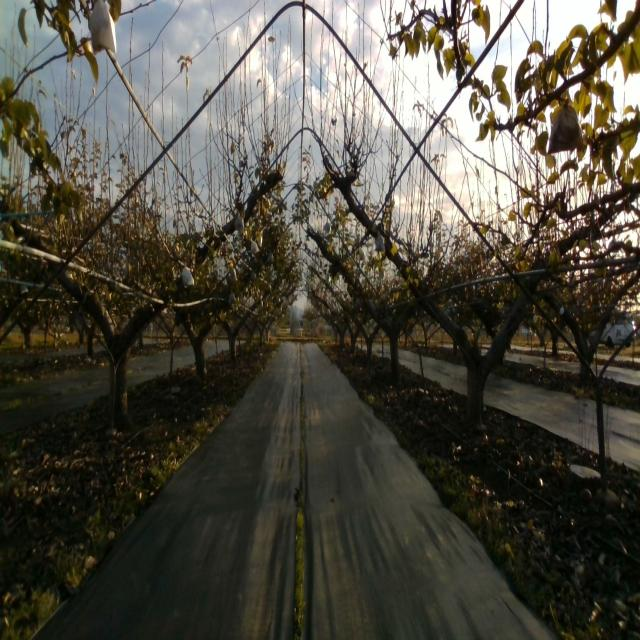pearbags: (548, 94, 586, 156), (90, 0, 117, 56), (181, 262, 195, 288), (373, 230, 386, 257)
